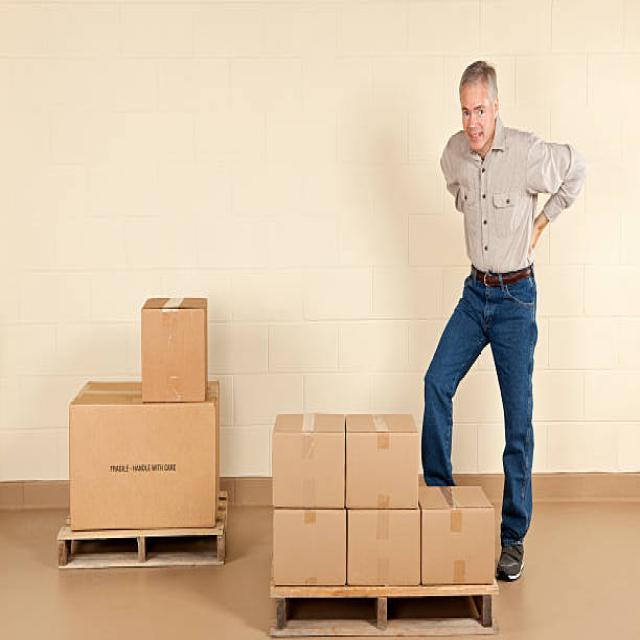Wooden-Pallets: (269, 590, 500, 636), (56, 526, 229, 572)
